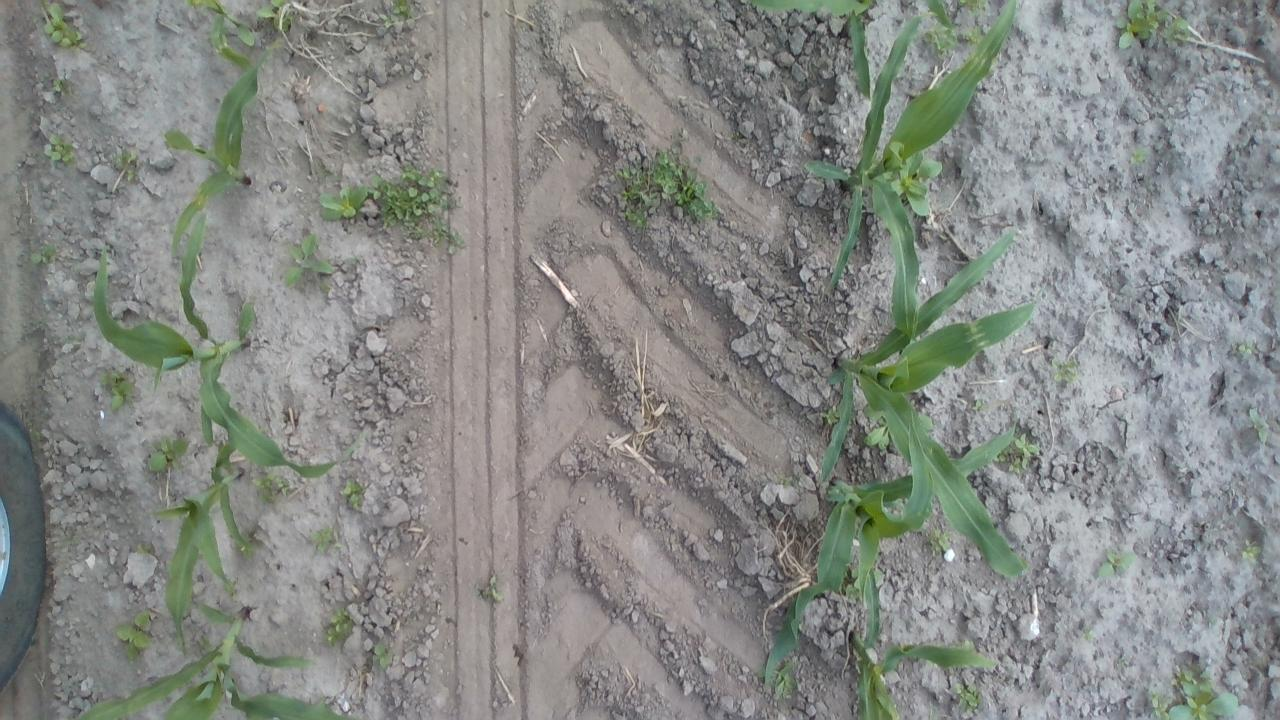Maize: (817, 232, 1052, 576), (760, 413, 1020, 719), (96, 246, 376, 482), (804, 0, 1020, 293), (165, 0, 313, 350), (66, 605, 352, 720), (146, 474, 264, 648)
Weeds: (372, 154, 468, 258), (616, 150, 716, 233), (1145, 652, 1254, 717), (871, 144, 947, 226), (1114, 1, 1198, 54), (316, 175, 373, 226), (286, 228, 336, 286), (472, 572, 524, 622), (110, 611, 158, 662), (40, 6, 90, 54), (142, 438, 198, 479), (1000, 432, 1042, 480), (1244, 392, 1277, 451), (1092, 544, 1138, 584), (369, 3, 424, 36), (766, 658, 806, 702), (250, 476, 302, 509), (94, 367, 132, 411), (114, 144, 145, 194), (950, 681, 992, 717), (340, 480, 374, 522), (368, 640, 402, 682), (23, 241, 62, 276), (249, 4, 301, 30), (1234, 528, 1264, 572), (1050, 357, 1083, 395), (328, 608, 356, 648), (302, 528, 342, 556), (927, 526, 956, 562), (46, 146, 82, 170), (1120, 145, 1150, 169), (1230, 342, 1261, 364), (968, 398, 992, 418)
